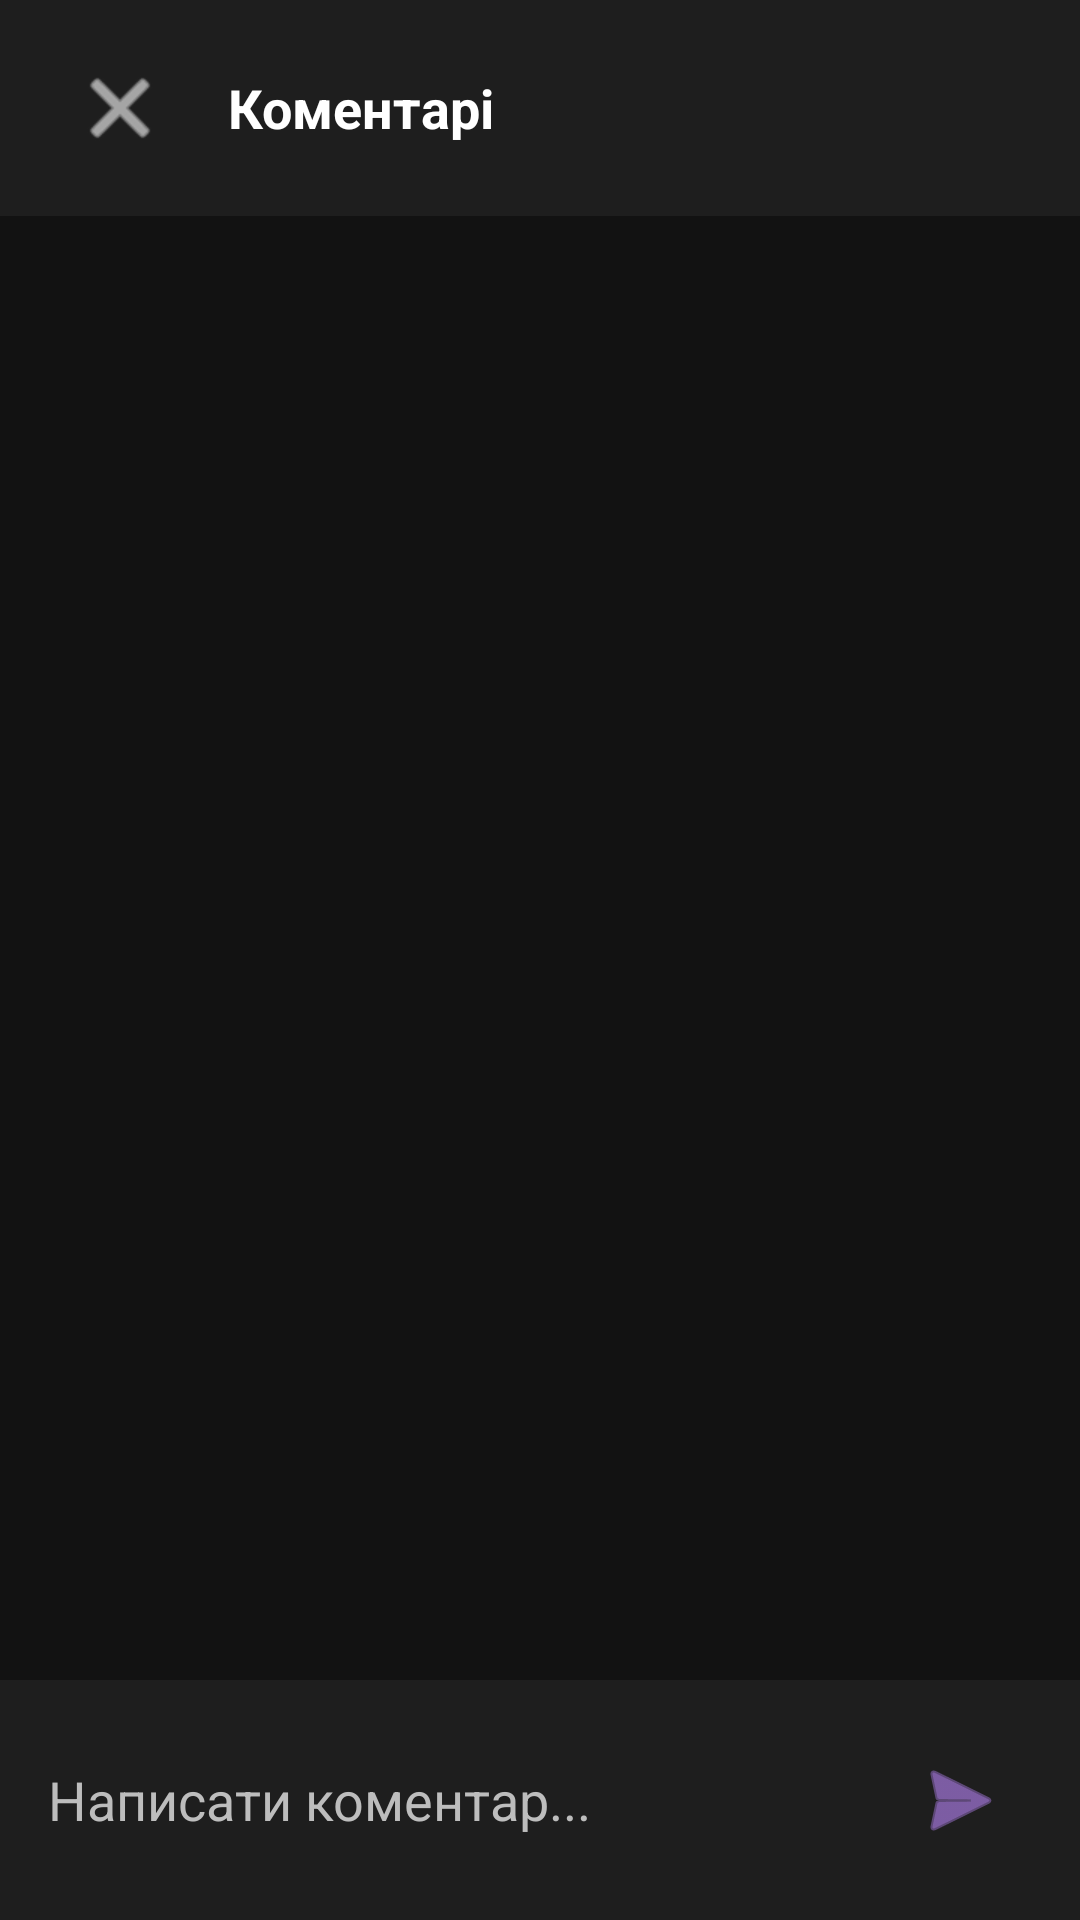

Screen size 1080*1920. Icon name, then its center in pixels as point (x, y):
Відправити: point (961, 1800)
